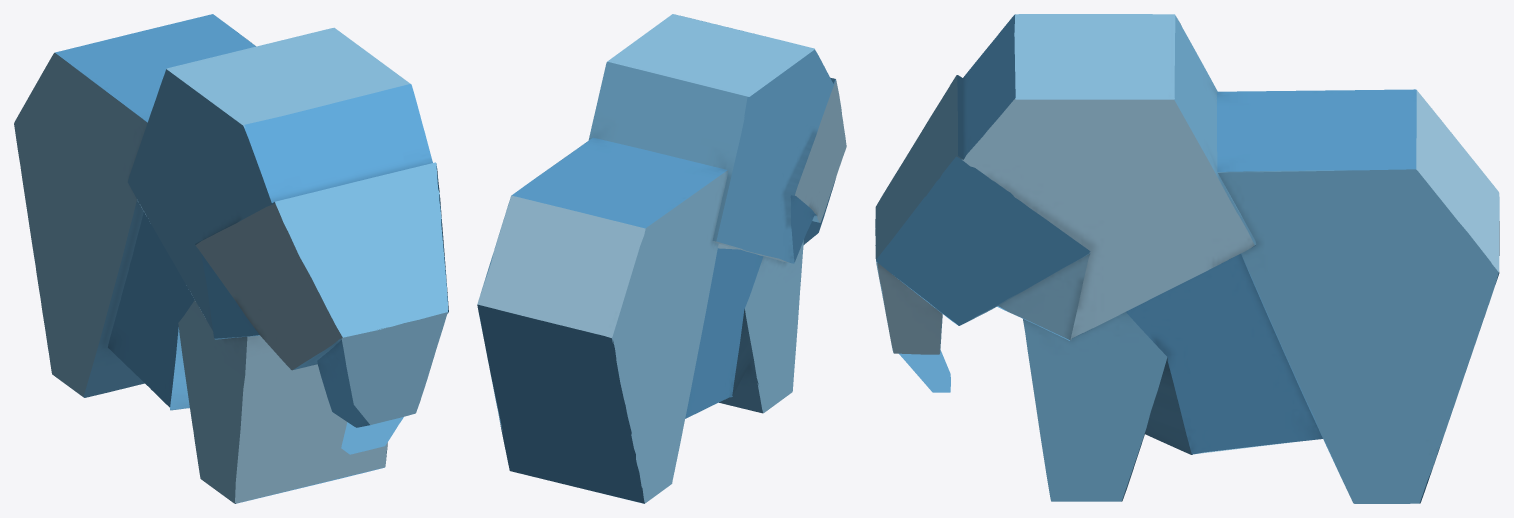
File: foldling_elephant.glb
The picture shows the model from 3 angles, left to right: view 1: azimuth 30°, elevation 25°; view 2: azimuth 150°, elevation 25°; view 3: azimuth 270°, elevation 25°; orthographic projection. The views are drawn at different scales.
Visible parts, largest first — view 1: gajah_ao; view 2: gajah_ao; view 3: gajah_ao.
Boxes of the visible parts, x1=… form: gajah_ao: x1=14, y1=14, x2=448, y2=503; gajah_ao: x1=477, y1=14, x2=846, y2=503; gajah_ao: x1=875, y1=14, x2=1499, y2=503.
Size of the model in its own units: 0.6999 by 1.37 by 1.9.
5 materials, 5 textured.
